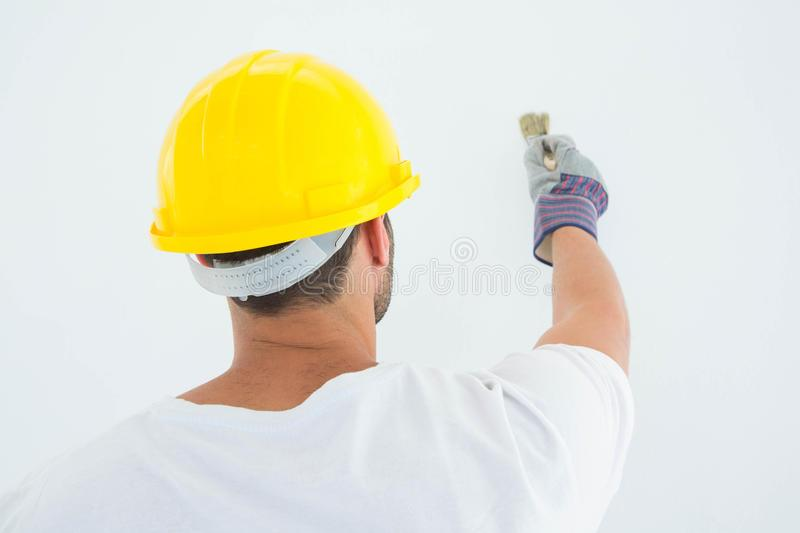helmet: (148, 49, 423, 259)
